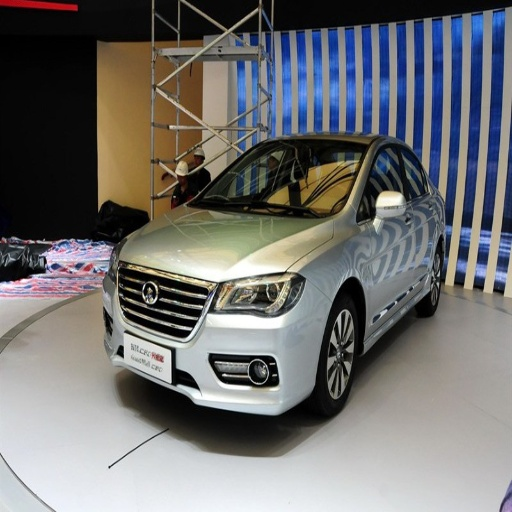front_bumper: (104, 265, 329, 415)
front_glass: (188, 140, 364, 218)
front_left_door: (363, 141, 410, 321)
